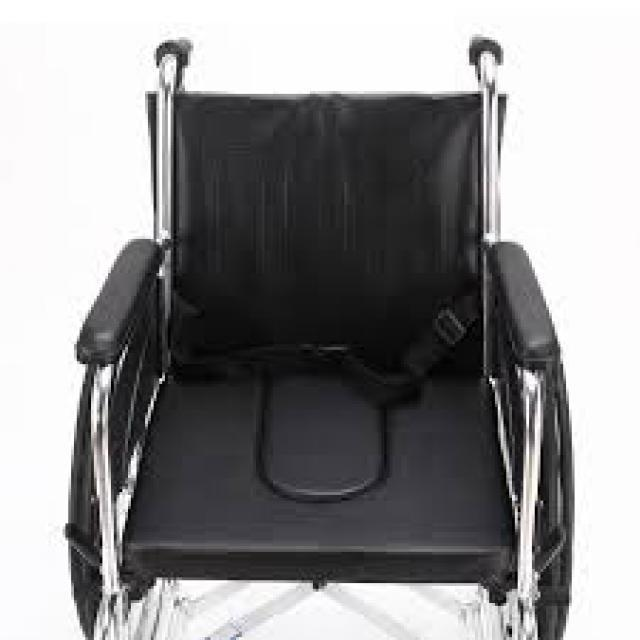wheelchairs: (72, 37, 576, 640)
